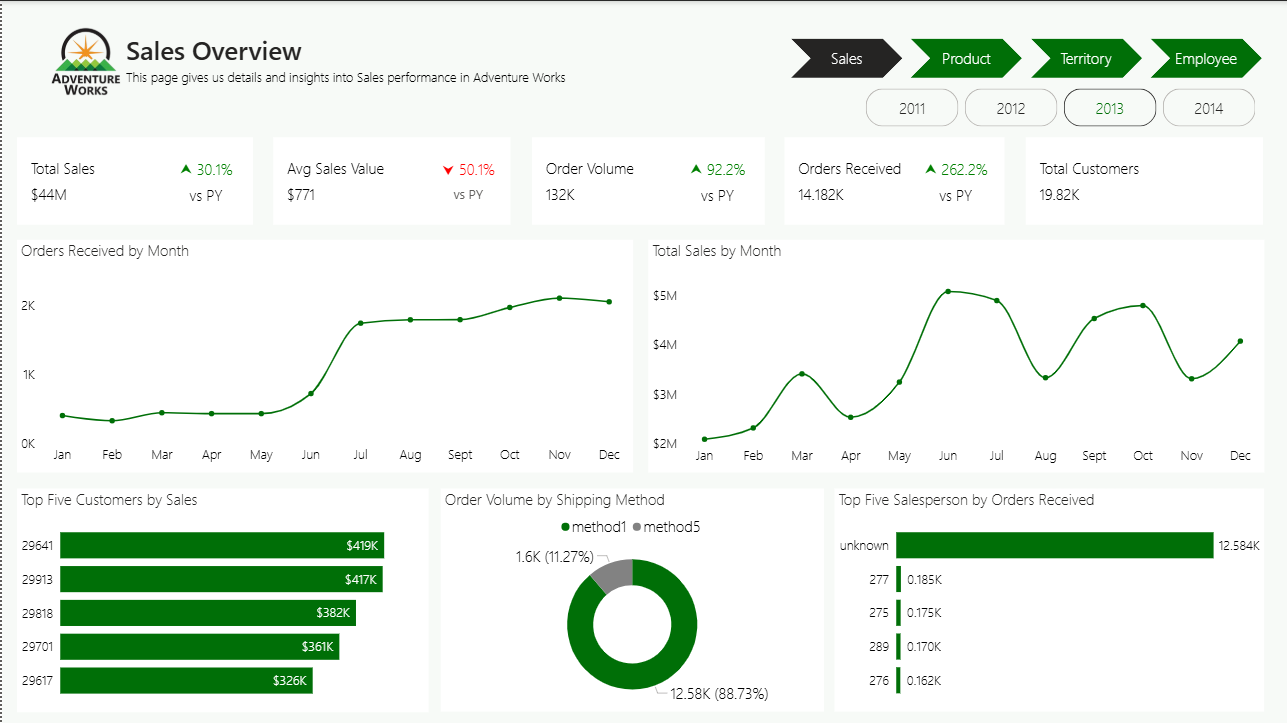

Layout of this report page (visuals, bound fields, positions):
{"tool":"powerbi","page":{"name":"Sales","canvas":[1600,900],"ordinal":0},"visuals":[{"type":"lineChart","fields":{"Category":["Date Table.Month Name"],"Y":["Sum(Sales_SalesOrderHeader.SubTotal)"]},"box":[803.5,296.5,766,289.7],"z":0},{"type":"textbox","box":[149.3,34.2,629.8,60.6],"z":1000},{"type":"textbox","box":[149.3,77.7,629.8,60.6],"z":2000},{"type":"pageNavigator","box":[982.7,48.2,589.3,42],"z":3000},{"type":"image","box":[48.2,23.3,112,104.2],"z":4000},{"type":"clusteredBarChart","title":"Top Five Salesperson by Orders Received","fields":{"Category":["Sales_SalesOrderHeader.SalesPersonID"],"Y":["Count(Sales_SalesOrderHeader.SalesOrderID)"]},"box":[1036,606.4,534,278],"z":5000},{"type":"donutChart","fields":{"Category":["Sales_SalesOrderHeader.ShipMethodID"],"Y":["CountNonNull(Sales_SalesOrderHeader.SalesOrderID)"]},"box":[545.8,606.4,476.7,278],"z":6000},{"type":"lineChart","fields":{"Category":["Date Table.Month Name"],"Y":["Count(Sales_SalesOrderDetail.SalesOrderID)"]},"box":[18.7,297,766.6,289.2],"z":7000},{"type":"barChart","title":"Top Five Customers by Sales","fields":{"Category":["Sales_SalesOrderHeader.CustomerID"],"Y":["Sum(Sales_SalesOrderDetail.LineTotal)"]},"box":[18.7,606.4,512,278.3],"z":8000},{"type":"cardVisual","fields":{"Data":["Sum(Sales_SalesOrderDetail.LineTotal)"]},"box":[18.7,169.5,293.9,108.8],"z":9000},{"type":"cardVisual","fields":{"Data":["Avg(Sales_SalesOrderDetail.LineTotal)"]},"box":[338.2,169.5,295.4,108.8],"z":10000},{"type":"cardVisual","fields":{"Data":["Sum(Sales_SalesOrderDetail.OrderQty)"]},"box":[659.3,169.5,289.2,108.8],"z":11000},{"type":"cardVisual","fields":{"Data":["Count(Sales_SalesOrderDetail.SalesOrderID)"]},"box":[974.2,169.5,273.7,108.8],"z":12000},{"type":"cardVisual","fields":{"Data":["Count(Sales_Customer.CustomerID)"]},"box":[1273.5,169.5,295.4,108.8],"z":13000},{"type":"card","fields":{"Values":["Sales_SalesOrderDetail.MoM % sales"]},"box":[208.2,187.7,91.1,70.6],"z":14000},{"type":"card","fields":{"Values":["Sales_SalesOrderDetail.YoY % Order Qty"]},"box":[842,187.7,94.8,70.6],"z":15000},{"type":"card","fields":{"Values":["Sales_SalesOrderDetail.MoM % orders"]},"box":[1128.3,187.7,115.2,70.6],"z":16000},{"type":"card","fields":{"Values":["_YoY.YoY % avg sales value"]},"box":[527.9,184,105.9,78.1],"z":17000},{"type":"advancedSlicerVisual","fields":{"Values":["Date Table.Year"]},"box":[1069.8,104.2,494.5,57.5],"z":18000}]}

Visuals, with their boxes in screenshot pixels (x1, y1, x2, y2), scaled from the page's 1600x900 canvas onto the 1287x723 screenshot:
lineChart - Date Table.Month Name x Sum(Sales_SalesOrderHeader.SubTotal): [646, 238, 1262, 471]
textbox: [120, 27, 627, 76]
textbox: [120, 62, 627, 111]
pageNavigator: [790, 39, 1264, 72]
image: [39, 19, 129, 102]
"Top Five Salesperson by Orders Received" clusteredBarChart: [833, 487, 1263, 710]
donutChart - Sales_SalesOrderHeader.ShipMethodID x CountNonNull(Sales_SalesOrderHeader.SalesOrderID): [439, 487, 822, 710]
lineChart - Date Table.Month Name x Count(Sales_SalesOrderDetail.SalesOrderID): [15, 239, 632, 471]
"Top Five Customers by Sales" barChart: [15, 487, 427, 711]
cardVisual - Sum(Sales_SalesOrderDetail.LineTotal): [15, 136, 251, 224]
cardVisual - Avg(Sales_SalesOrderDetail.LineTotal): [272, 136, 510, 224]
cardVisual - Sum(Sales_SalesOrderDetail.OrderQty): [530, 136, 763, 224]
cardVisual - Count(Sales_SalesOrderDetail.SalesOrderID): [784, 136, 1004, 224]
cardVisual - Count(Sales_Customer.CustomerID): [1024, 136, 1262, 224]
card - Sales_SalesOrderDetail.MoM % sales: [167, 151, 241, 208]
card - Sales_SalesOrderDetail.YoY % Order Qty: [677, 151, 754, 208]
card - Sales_SalesOrderDetail.MoM % orders: [908, 151, 1000, 208]
card - _YoY.YoY % avg sales value: [425, 148, 510, 211]
advancedSlicerVisual - Date Table.Year: [861, 84, 1258, 130]
